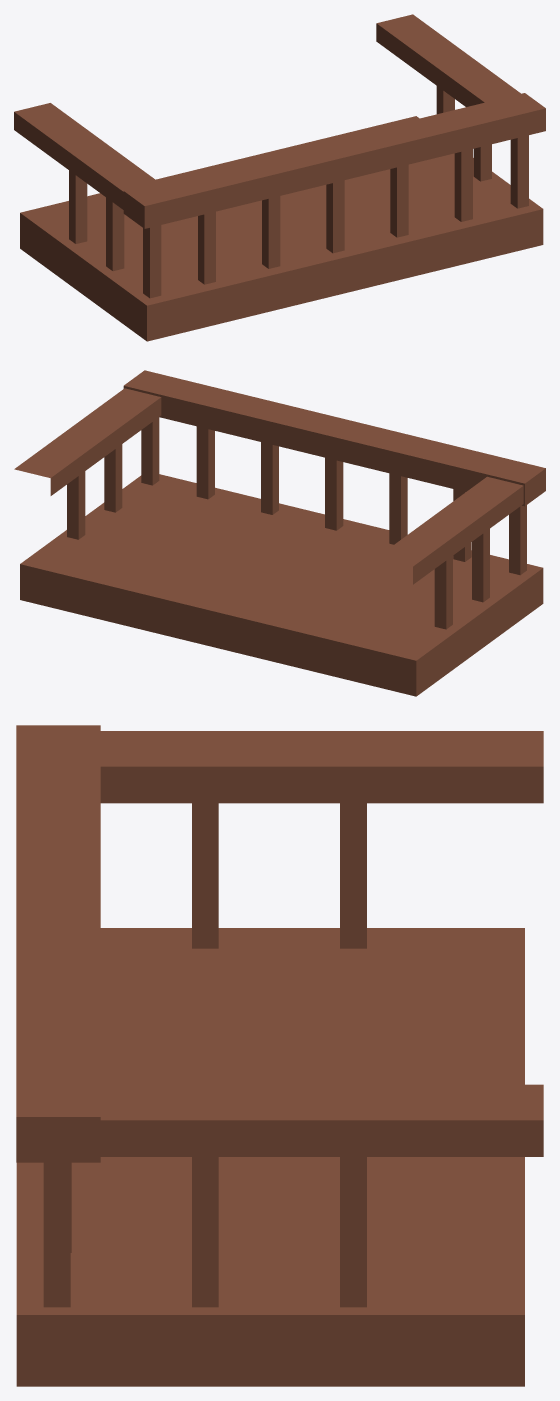
The model's file is balcony.glb.
3 renders of one model, top to bottom at view 1: azimuth 30°, elevation 25°; view 2: azimuth 150°, elevation 25°; view 3: azimuth 270°, elevation 25°, orthographic. The views are drawn at different scales.
Visible parts, largest first — view 1: Balcony2; view 2: Balcony2; view 3: Balcony2.
Boxes of the visible parts, box(x1,y1,x2,y2) form: Balcony2: box(14, 14, 545, 341); Balcony2: box(14, 370, 545, 696); Balcony2: box(16, 725, 543, 1386).
Bounding box in the file's own units: 0.8344 × 0.2702 × 0.4747.
1 material, 1 textured.
